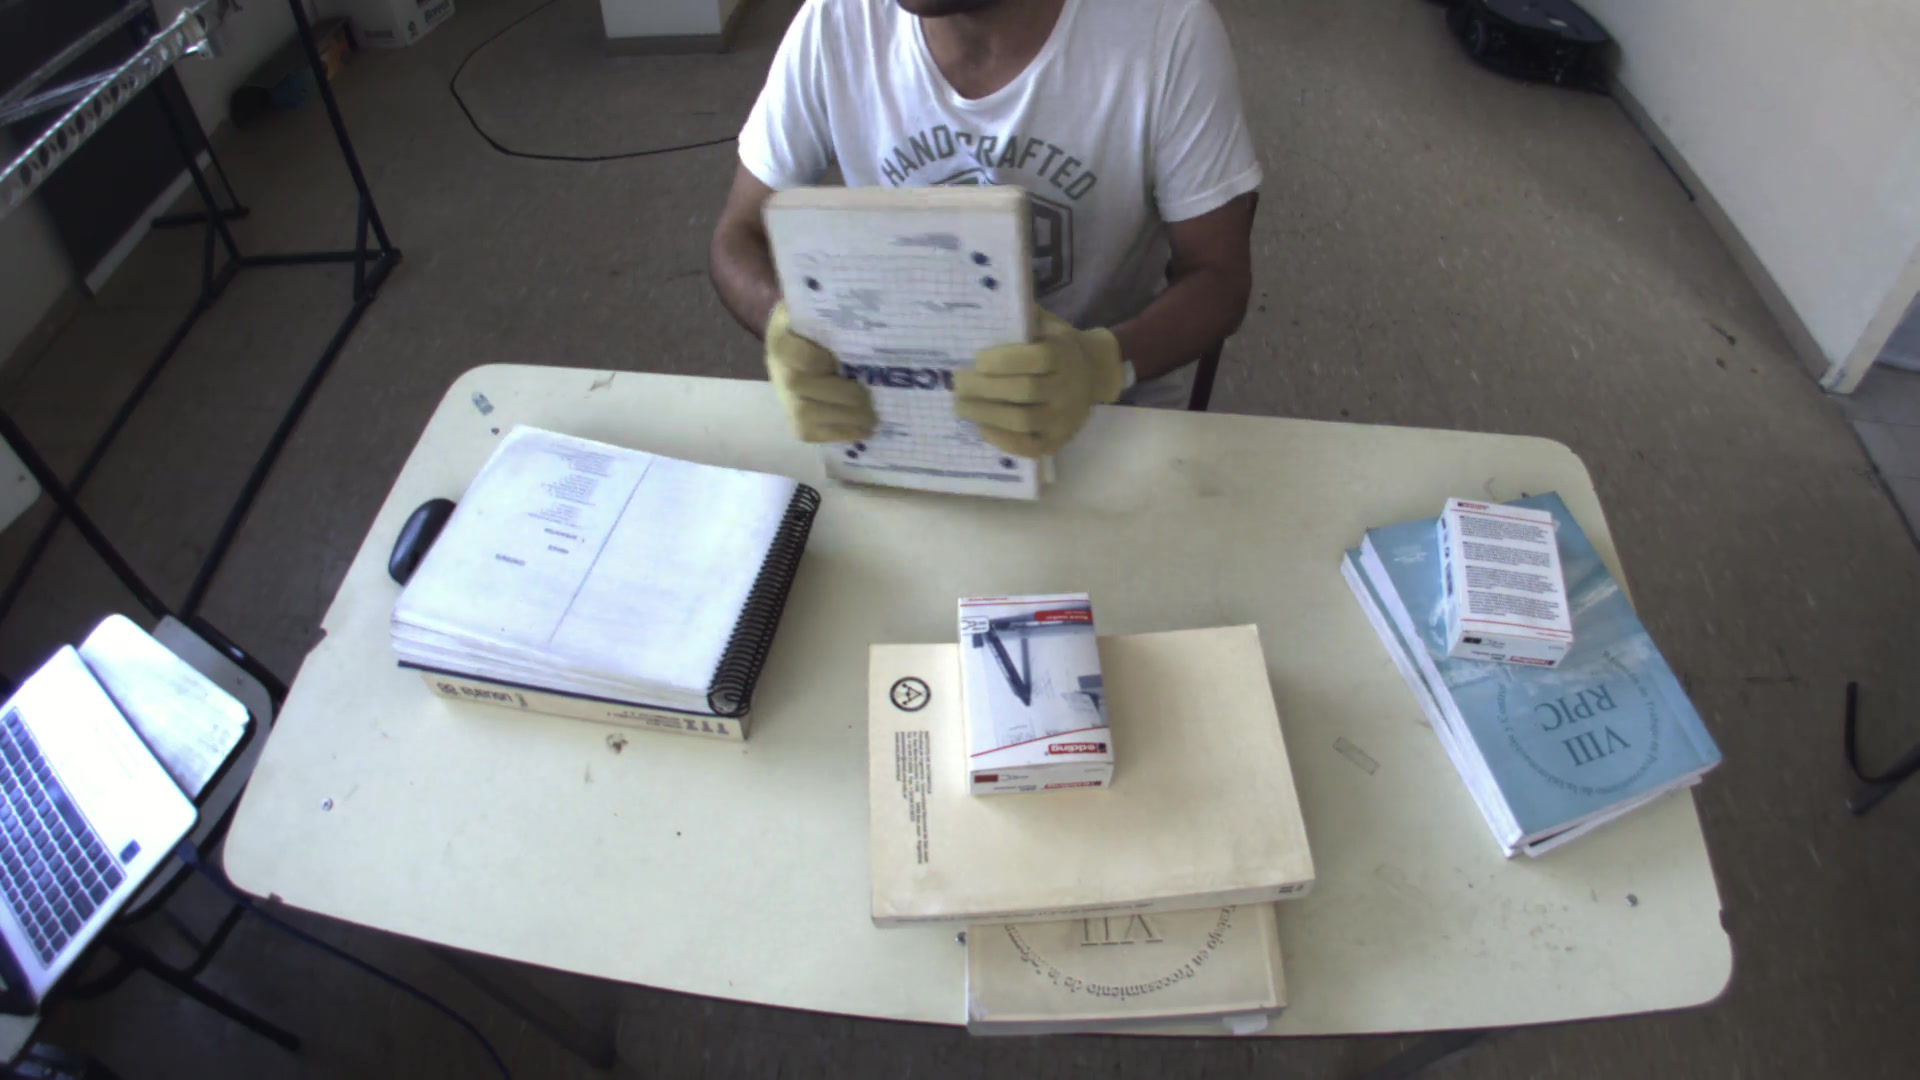hand: (945, 299, 1138, 463), (749, 305, 876, 450)
